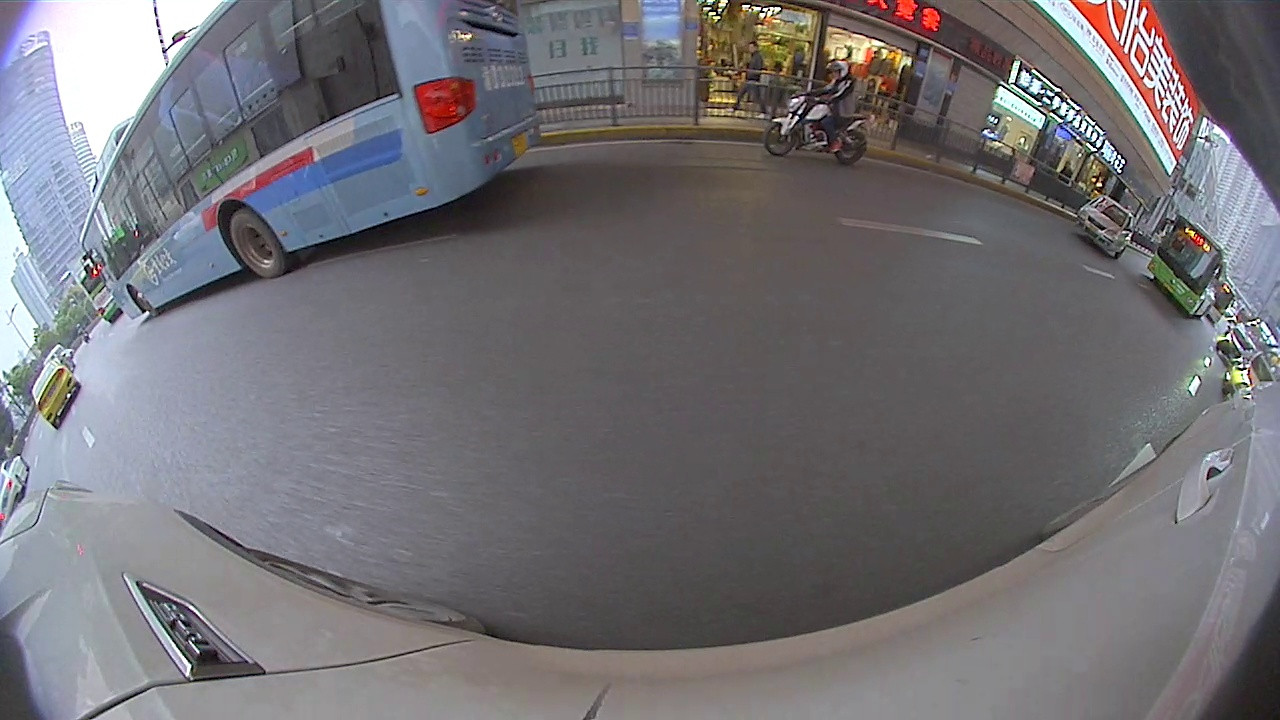car: (543, 2, 1008, 287), (17, 267, 99, 359), (1115, 282, 1193, 365), (1063, 229, 1140, 298), (1195, 366, 1239, 429)
front: (937, 226, 995, 285)
rear: (621, 156, 727, 255), (1104, 279, 1121, 295)
